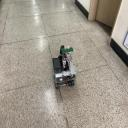cart: (52, 56, 77, 89)
